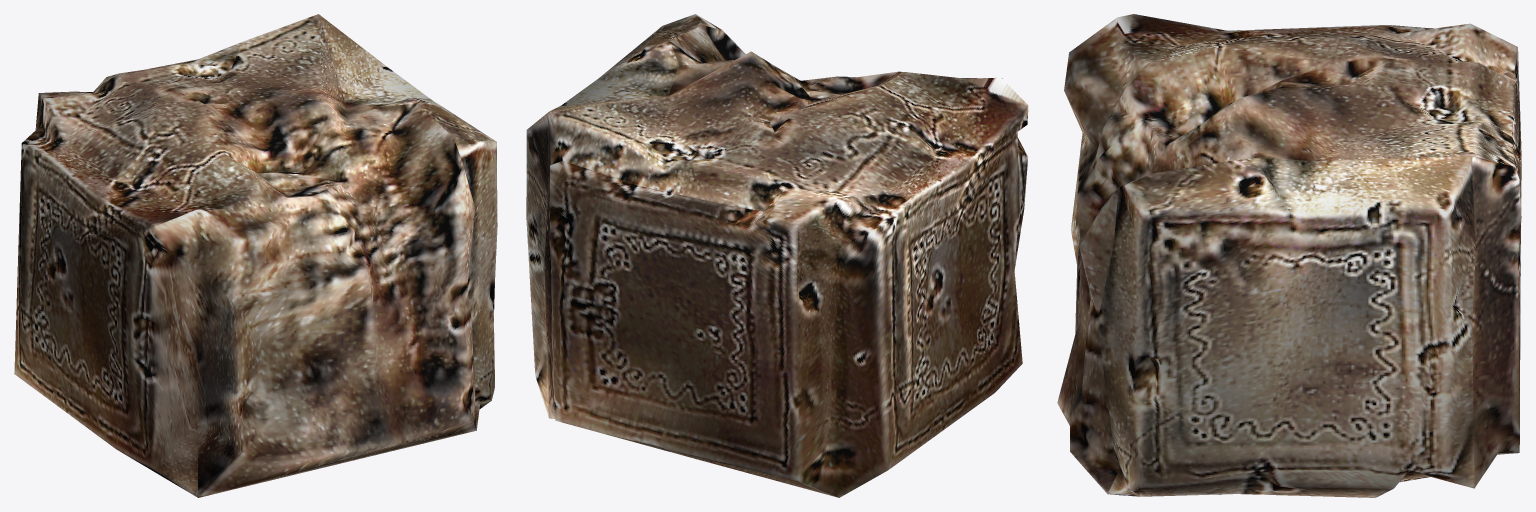
The model's file is TRP_Block 02.FBX.
3 views of the same model, side by side, from view 1: azimuth 30°, elevation 25°; view 2: azimuth 150°, elevation 25°; view 3: azimuth 270°, elevation 25° (orthographic). The views are drawn at different scales.
Visible parts, largest first — view 1: Block_Ruined1; view 2: Block_Ruined1; view 3: Block_Ruined1.
Part boxes in pixels (<box>): Block_Ruined1: <box>14,14,497,497</box>; Block_Ruined1: <box>526,14,1028,497</box>; Block_Ruined1: <box>1057,14,1521,497</box>.
Bounding box in the file's own units: 91.56 × 91.79 × 77.
1 material, 1 textured.
